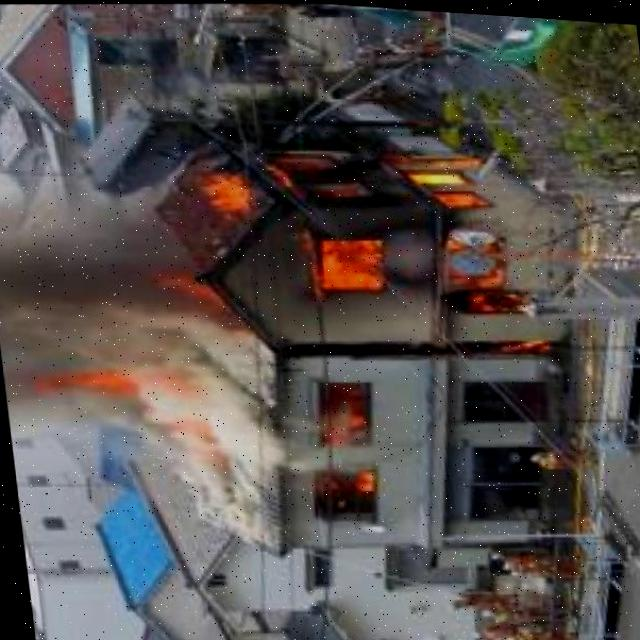fire: (182, 120, 521, 321), (310, 374, 378, 522), (45, 366, 135, 402)
